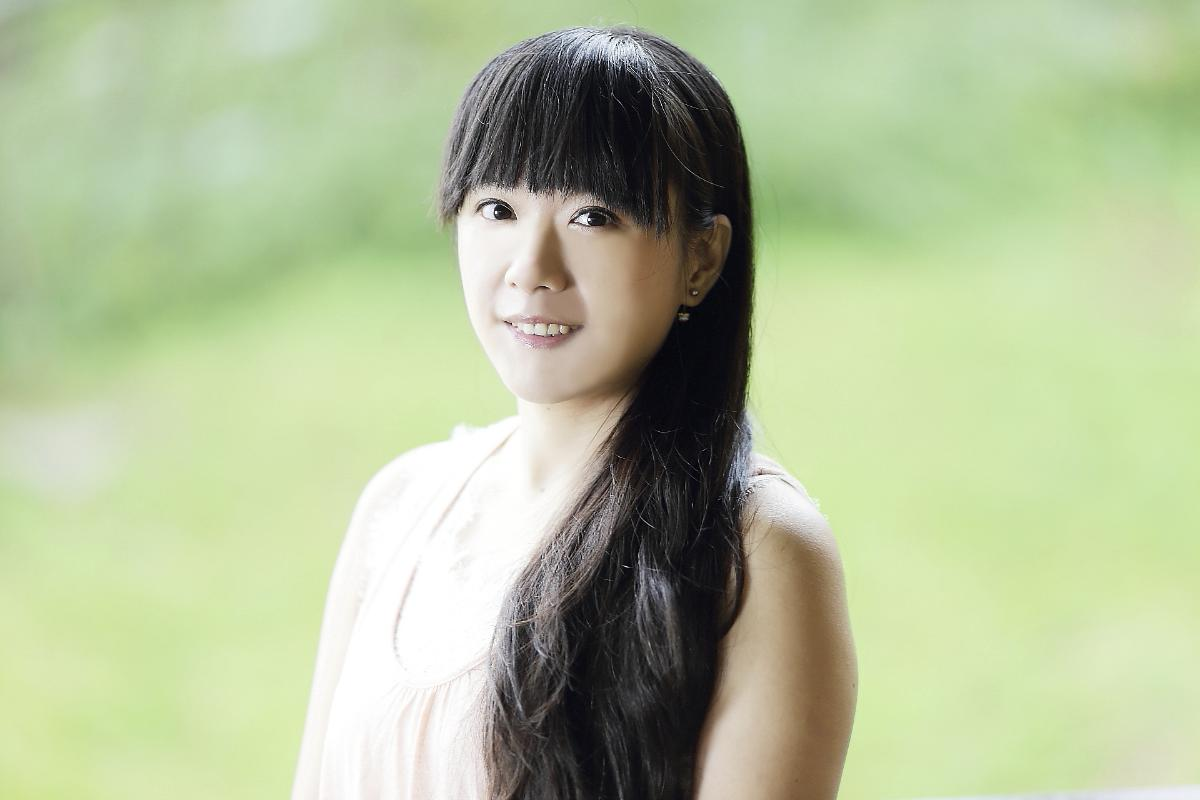Person: (286, 32, 869, 800)
